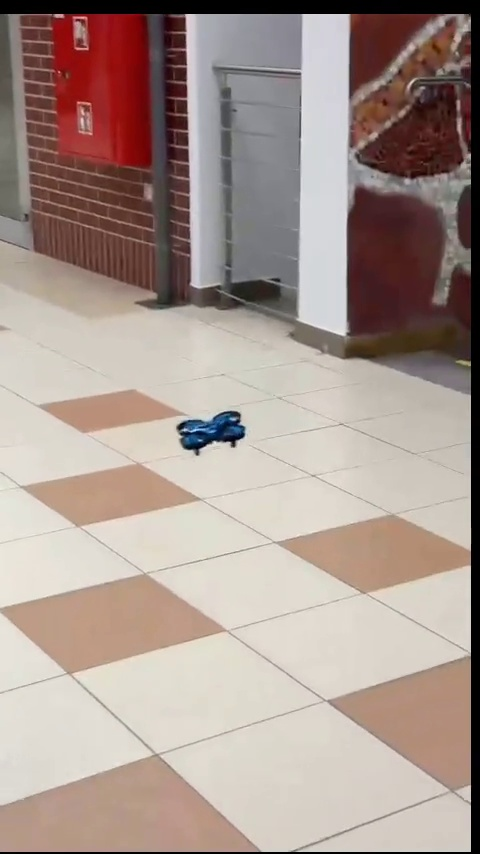drone: (177, 409, 251, 452)
